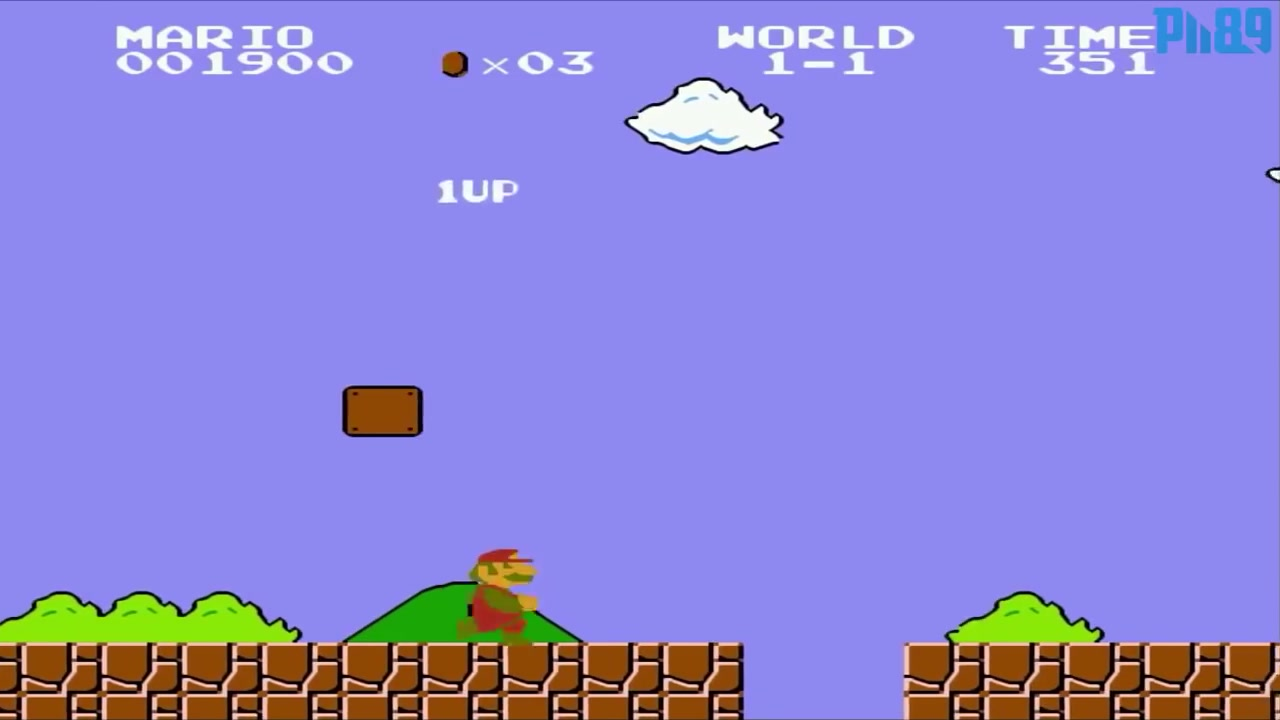mario: (453, 544, 543, 648)
